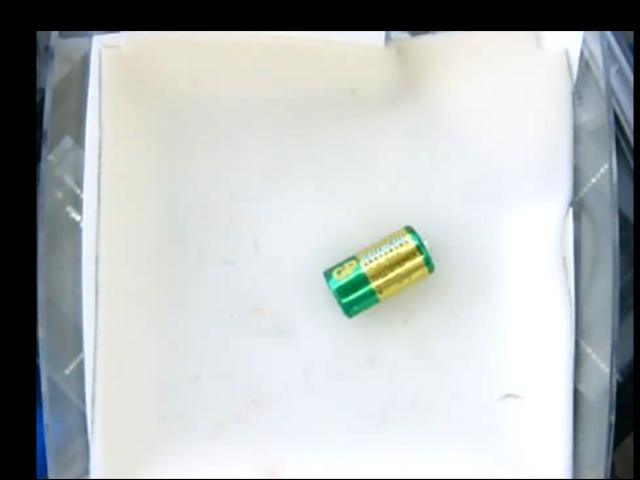Battery: (323, 224, 434, 316)
